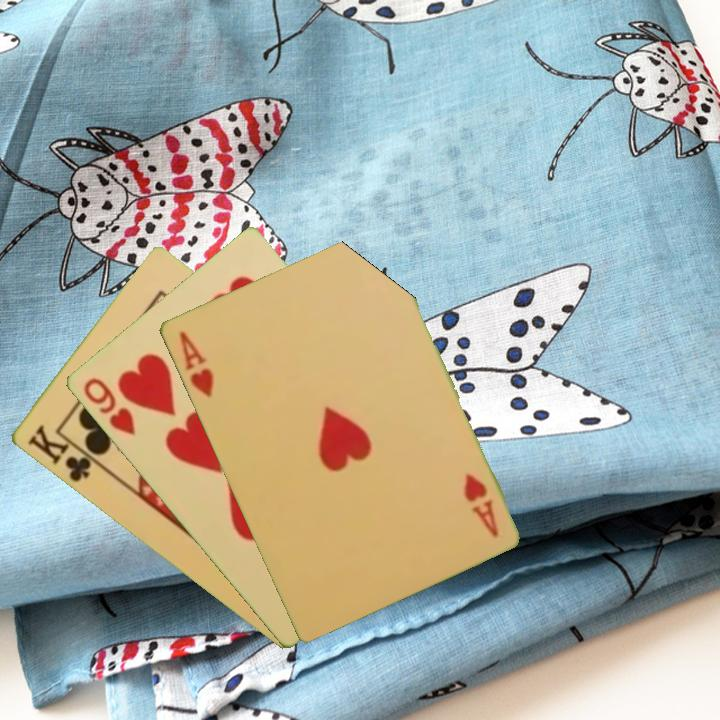9h: (79, 374, 138, 439)
Ah: (175, 327, 216, 400), (459, 469, 501, 540)
Kc: (23, 421, 103, 486)
